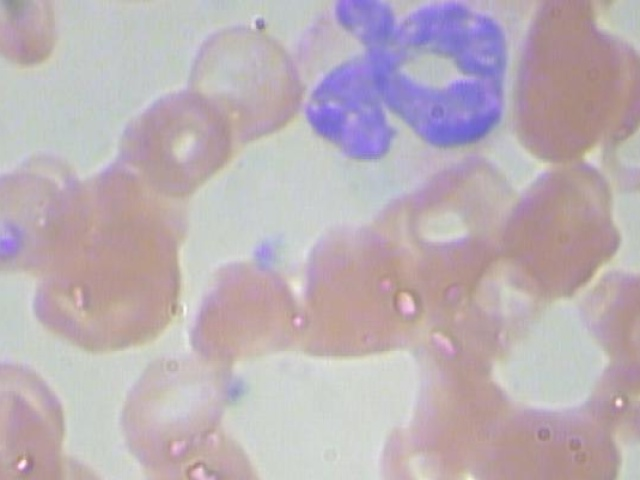Platelets: (243, 234, 286, 275)
RBC: (24, 209, 188, 363), (287, 215, 432, 361), (496, 151, 631, 298), (505, 0, 620, 165), (106, 337, 251, 465), (178, 15, 308, 145), (178, 254, 312, 373), (466, 395, 629, 480), (122, 81, 234, 194), (0, 161, 84, 279), (0, 381, 72, 480), (591, 56, 640, 201), (582, 333, 640, 444), (0, 0, 72, 71), (63, 0, 188, 11)
WBC: (274, 0, 535, 183)
